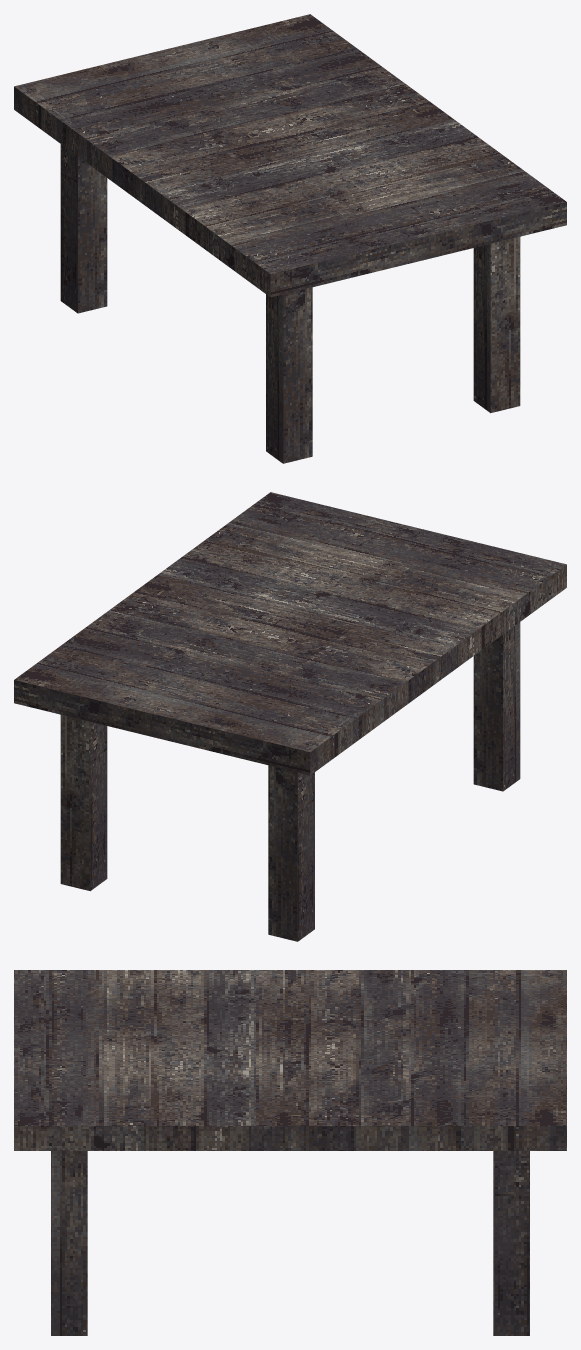
Rendered from table_l.glb.
The picture shows the model from 3 angles, top to bottom: view 1: azimuth 30°, elevation 25°; view 2: azimuth 150°, elevation 25°; view 3: azimuth 270°, elevation 25°; orthographic projection. The views are drawn at different scales.
Visible parts, largest first — view 1: Table Large; view 2: Table Large; view 3: Table Large.
Boxes of the visible parts, x1=… form: Table Large: x1=14, y1=14, x2=566, y2=463; Table Large: x1=14, y1=492, x2=566, y2=941; Table Large: x1=14, y1=970, x2=566, y2=1335.
Bounding box in the file's own units: 1 × 0.675 × 1.5.
Materials: 1 (1 with a texture image).
